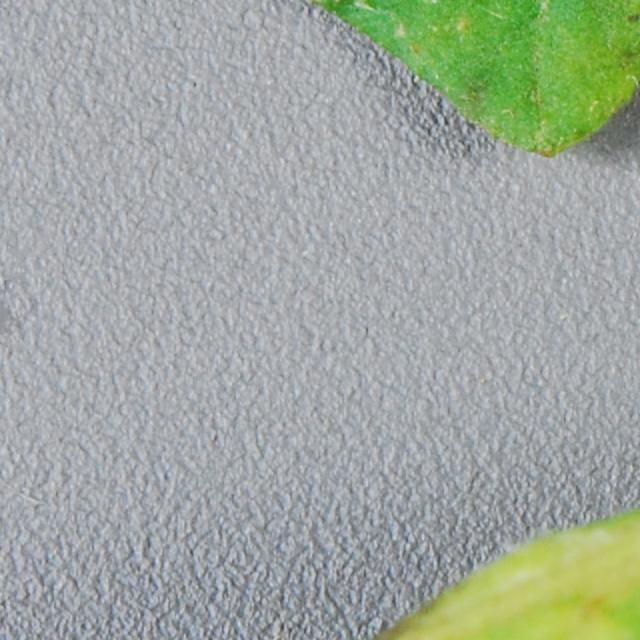Tomato Early blight leaf: (0, 0, 640, 394)
